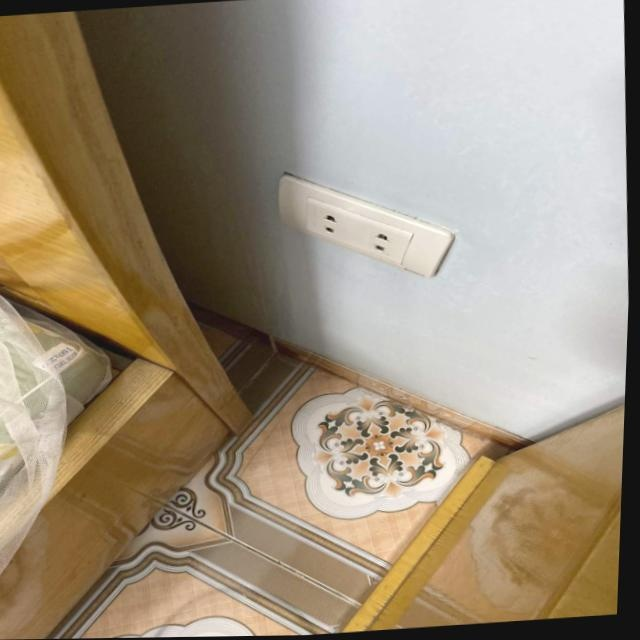outlet: (272, 161, 460, 289)
